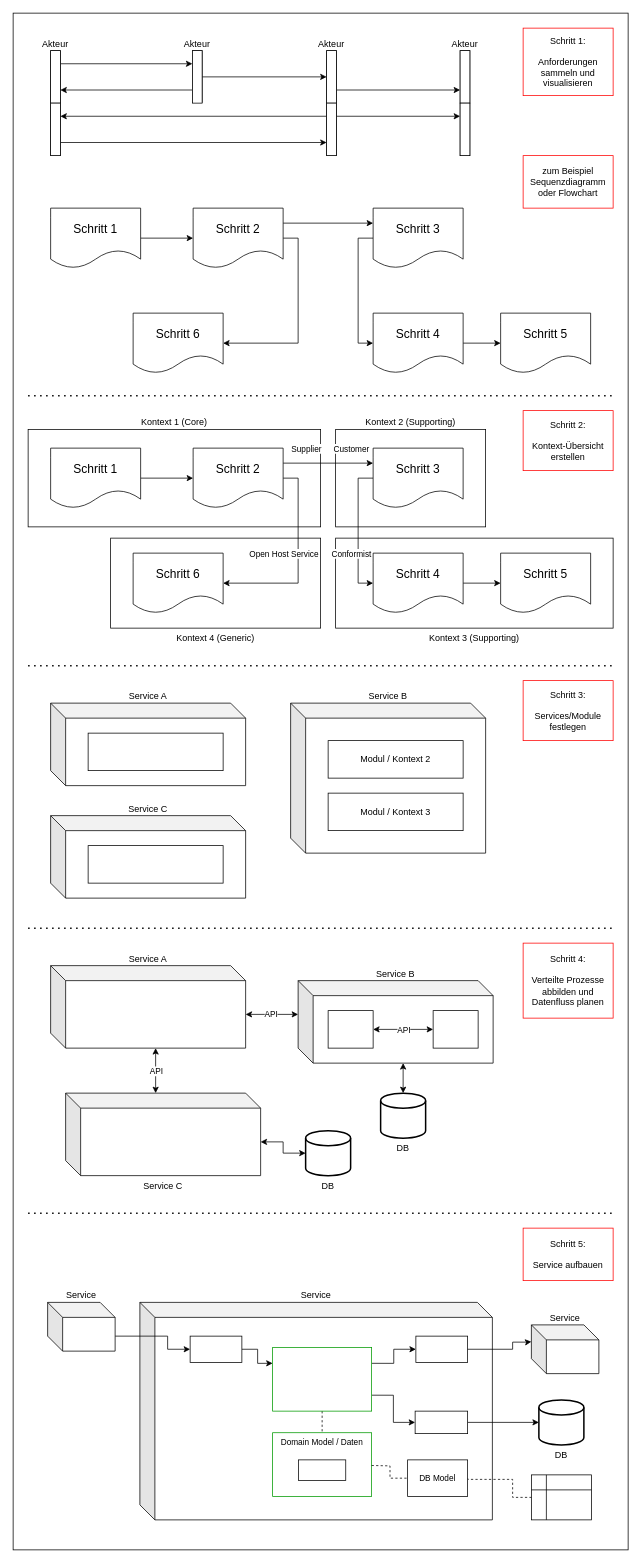
The diagram is 641 pixels wide and 1563 high, and some of its shapes have lost their labels. Here are the shapes that lost their labels. From the top down, the centre of each, then its label:
the point at 155,751: Kontext 1
the point at 155,864: Kontext 4
the point at 215,1348: API (in)
the point at 441,1348: API (out)
the point at 322,1379: Domain Logik ( Fachlichkeit)
the point at 441,1422: DB-API
the point at 322,1469: Entities
the point at 561,1497: Tabellen
